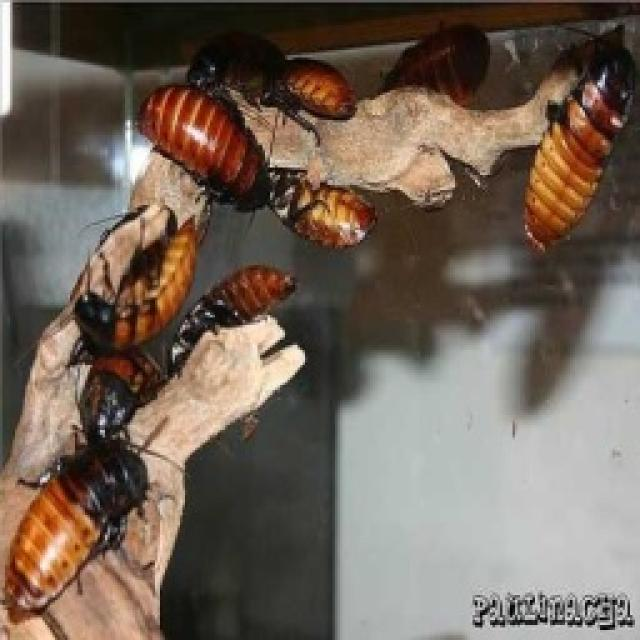cockroach: (0, 419, 171, 623), (495, 51, 637, 272), (56, 202, 212, 382), (121, 56, 276, 228), (197, 28, 369, 146), (228, 132, 378, 264), (362, 15, 512, 130), (176, 264, 294, 382)
